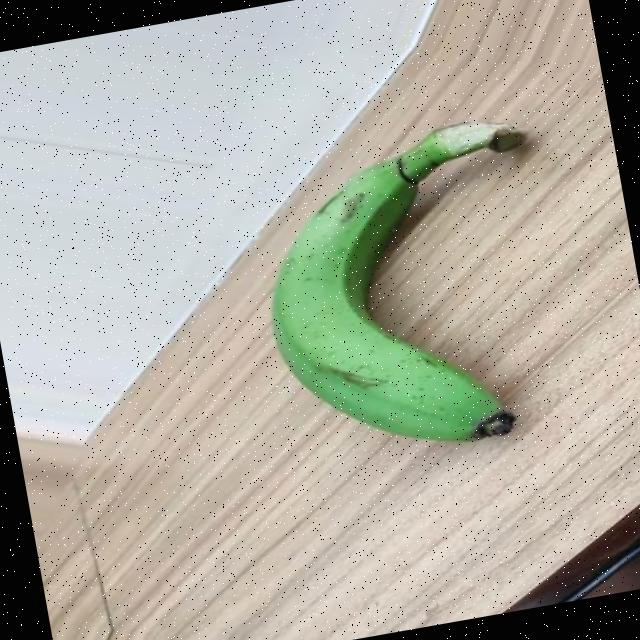Unripe: (245, 110, 578, 472)
